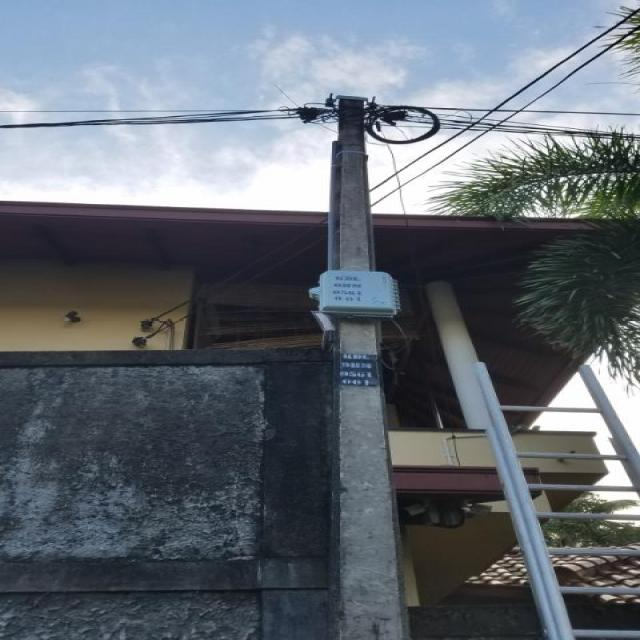light_pole: (294, 93, 419, 640)
